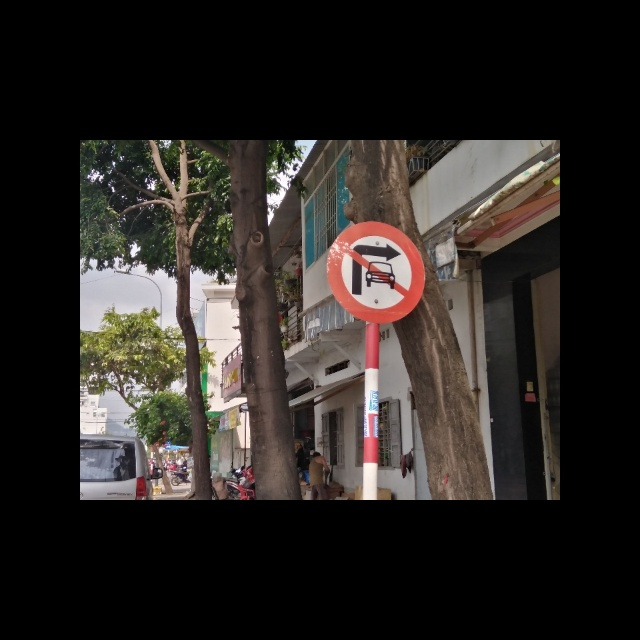Cấm xe ô tô rẽ trái: (324, 221, 427, 325)
